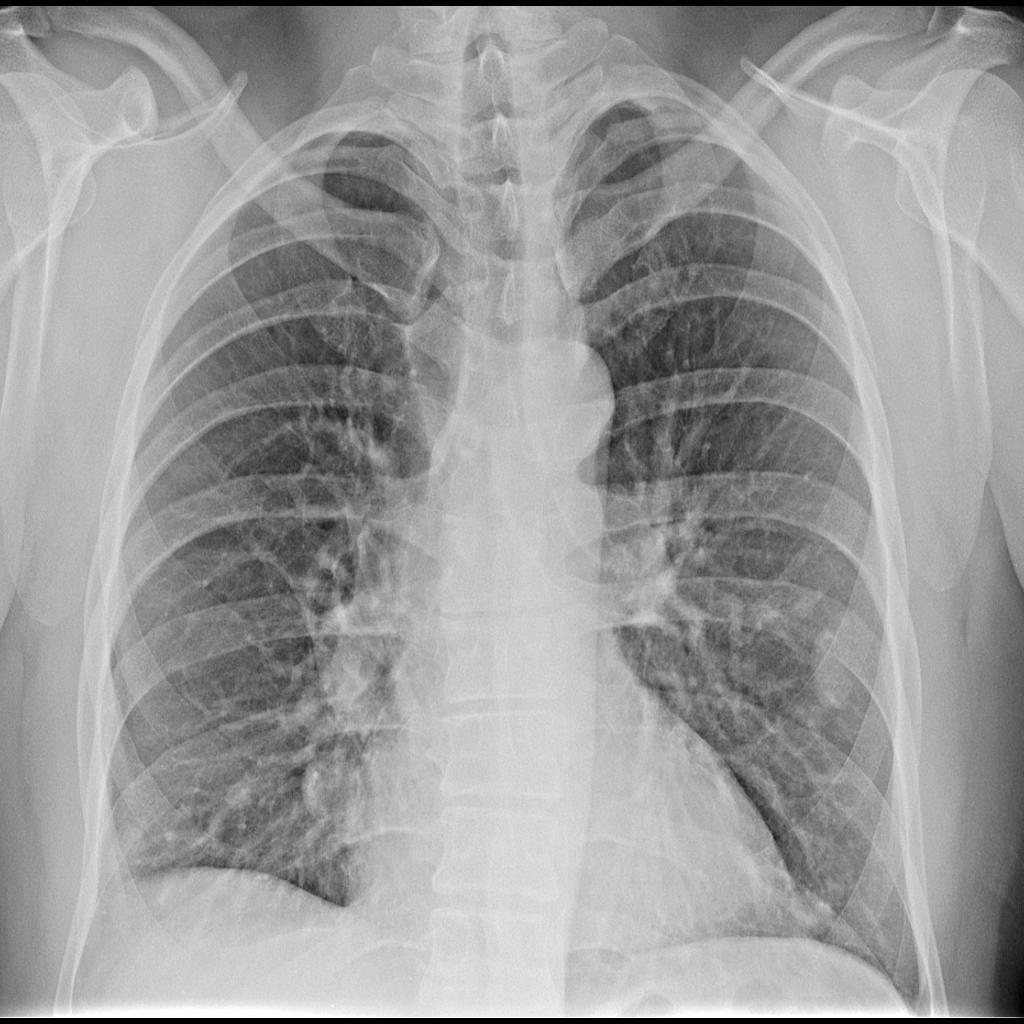Nodule: (813, 632, 879, 718), (225, 784, 249, 810)
